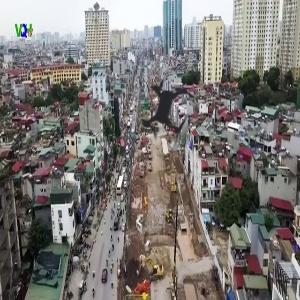drone: (116, 58, 226, 168)
